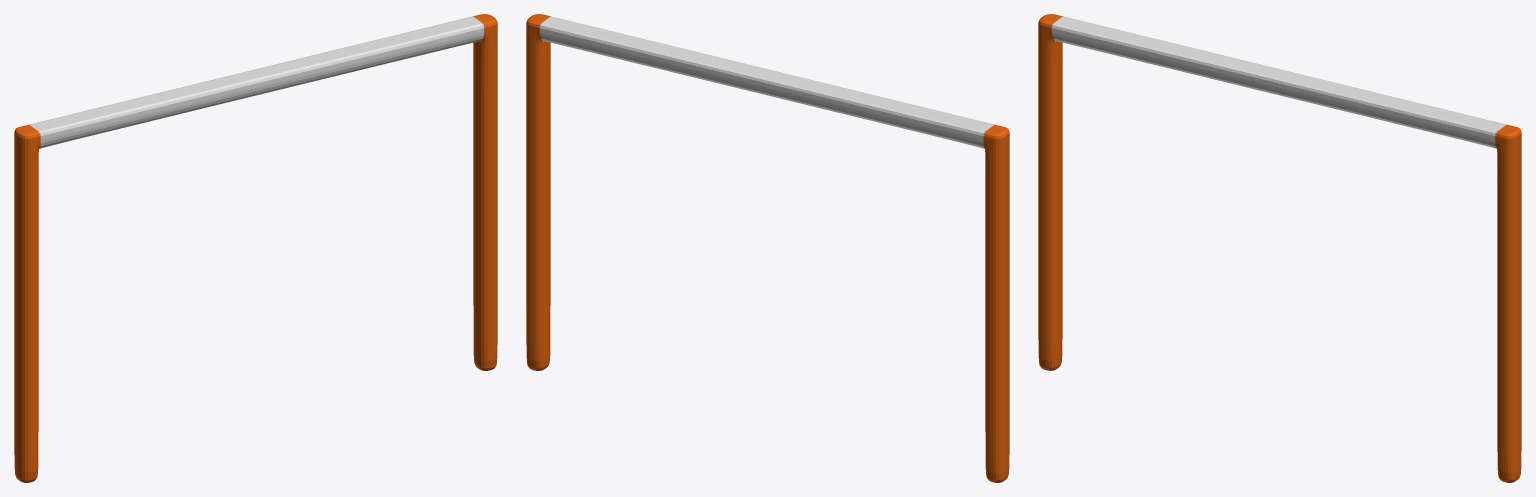
Rendered from qualification_gate.dae.
3 views of the same model, side by side, from view 1: azimuth 30°, elevation 25°; view 2: azimuth 150°, elevation 25°; view 3: azimuth 330°, elevation 25° (orthographic).
Parts seen in each view (by area): view 1: Plane.001; view 2: Plane.001; view 3: Plane.001.
Boxes of the visible parts, x1,y1,x2,y2 form: Plane.001: [14, 14, 497, 482]; Plane.001: [526, 14, 1009, 482]; Plane.001: [1038, 14, 1521, 482].
Bounding box in the file's own units: 1.51 × 0.0708 × 1.06.
Materials: 1 (1 with a texture image).
